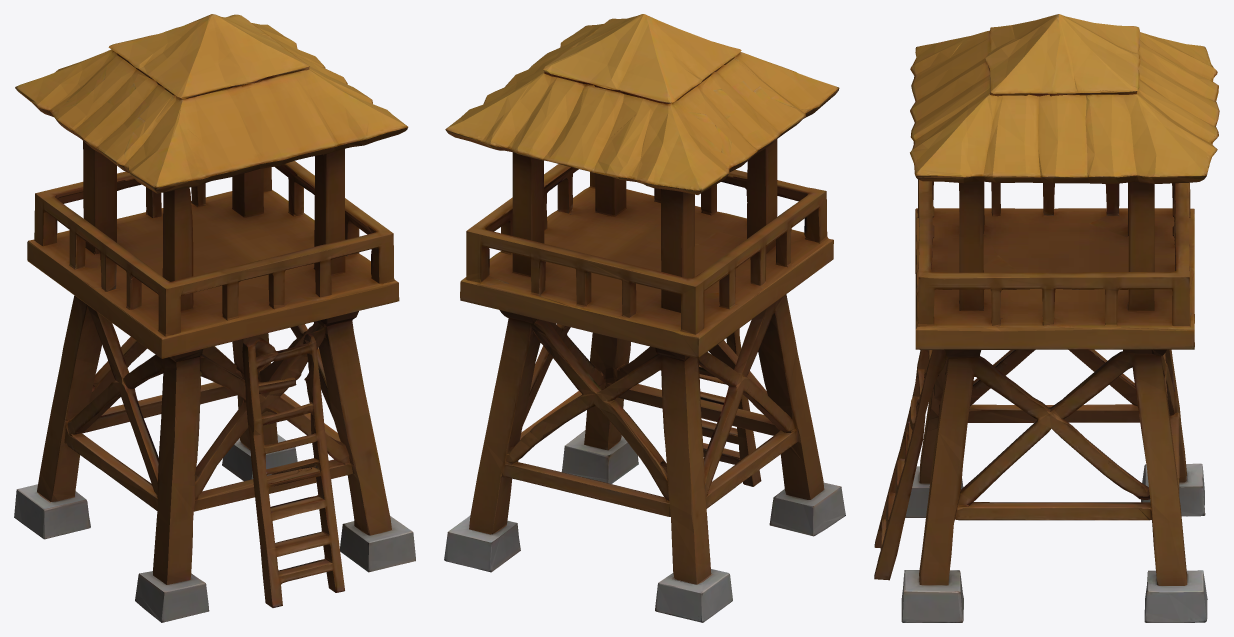
File: ranger_watchtower.glb
3 views of the same model, side by side, from view 1: azimuth 30°, elevation 25°; view 2: azimuth 150°, elevation 25°; view 3: azimuth 270°, elevation 25° (orthographic). The views are drawn at different scales.
Parts seen in each view (by area): view 1: world; view 2: world; view 3: world.
Part boxes in pixels (x1=…): world: x1=14, y1=14, x2=415, y2=622; world: x1=444, y1=14, x2=845, y2=622; world: x1=874, y1=14, x2=1219, y2=622.
Size of the model in its own units: 0.519 by 1 by 0.5764.
Materials: 1 (1 with a texture image).
